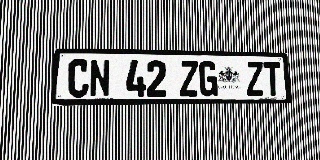2: (147, 60, 166, 97)
4: (126, 60, 146, 97)
C: (67, 59, 89, 97)
G: (199, 61, 218, 96)
N: (89, 59, 110, 97)
T: (263, 62, 282, 96)
Z: (180, 61, 199, 97), (246, 61, 264, 96)
